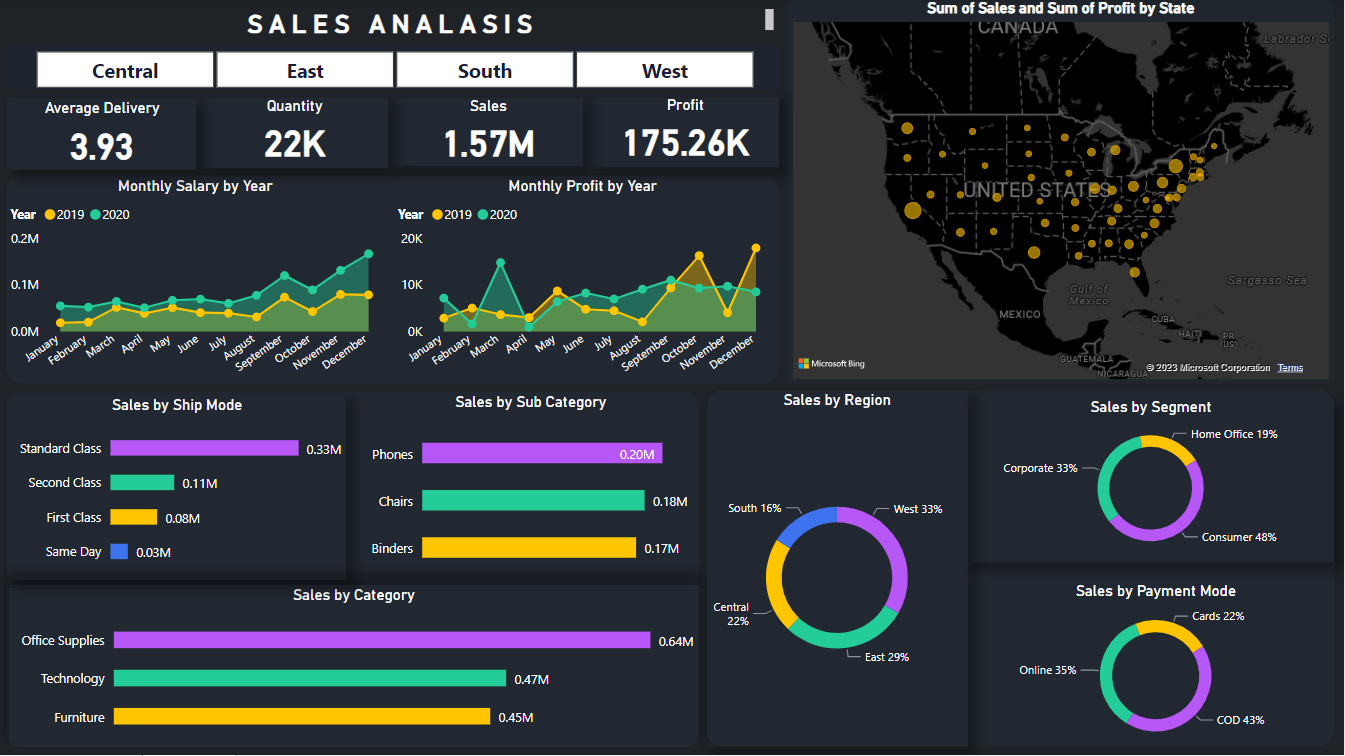

This screenshot's page, from the dashboard's own definition file:
{"tool":"powerbi","page":{"name":"Sales","canvas":[1280,720],"ordinal":0},"visuals":[{"type":"shape","box":[7.1,373.7,659.3,339.2],"z":0},{"type":"shape","box":[673.6,372.5,597.4,339.2],"z":1000},{"type":"shape","box":[7.1,167.8,735.5,198.7],"z":2000},{"type":"shape","box":[7.1,94,735.5,67.8],"z":3000},{"type":"clusteredBarChart","title":" Sales by Category","fields":{"Category":["SuperStore_Sales_Dataset.Category"],"Y":["Sum(SuperStore_Sales_Dataset.Sales)"]},"box":[9.5,558.1,656.9,154.7],"z":4000},{"type":"clusteredBarChart","title":" Sales by Sub Category","fields":{"Category":["SuperStore_Sales_Dataset.Sub-Category"],"Y":["Sum(SuperStore_Sales_Dataset.Sales)"]},"box":[345.1,374.9,322.5,183.3],"z":5000},{"type":"clusteredBarChart","title":" Sales by Ship Mode","fields":{"Category":["SuperStore_Sales_Dataset.Ship Mode"],"Y":["Sum(SuperStore_Sales_Dataset.Sales)"]},"box":[8.3,377.3,322.5,176.1],"z":6000},{"type":"areaChart","title":"Monthly Salary by Year","fields":{"Category":["SuperStore_Sales_Dataset.Order Date.Variation.Date Hierarchy.Month","SuperStore_Sales_Dataset.Order Date.Variation.Date Hierarchy.Day"],"Y":["Sum(SuperStore_Sales_Dataset.Sales)"],"Series":["SuperStore_Sales_Dataset.Order Date.Variation.Date Hierarchy.Year"]},"box":[6,169,361.8,198.7],"z":7000},{"type":"areaChart","title":"Monthly Profit by Year","fields":{"Category":["SuperStore_Sales_Dataset.Order Date.Variation.Date Hierarchy.Month","SuperStore_Sales_Dataset.Order Date.Variation.Date Hierarchy.Day"],"Series":["SuperStore_Sales_Dataset.Order Date.Variation.Date Hierarchy.Year"],"Y":["Sum(SuperStore_Sales_Dataset.Profit)"]},"box":[374.9,169,361.8,198.7],"z":8000},{"type":"donutChart","title":"Sales by Segment","fields":{"Category":["SuperStore_Sales_Dataset.Segment"],"Y":["Sum(SuperStore_Sales_Dataset.Sales)"]},"box":[922.3,379.6,348.7,155.9],"z":9000},{"type":"donutChart","title":"Sales by Region","fields":{"Category":["SuperStore_Sales_Dataset.Region"],"Y":["Sum(SuperStore_Sales_Dataset.Sales)"]},"box":[673.6,372.5,248.7,340.4],"z":10000},{"type":"donutChart","title":"Sales by Payment Mode","fields":{"Category":["SuperStore_Sales_Dataset.Payment Mode"],"Y":["Sum(SuperStore_Sales_Dataset.Sales)"]},"box":[931.8,554.6,339.2,163],"z":11000},{"type":"slicer","fields":{"Values":["SuperStore_Sales_Dataset.Region"]},"box":[9.5,42.8,733.1,44],"z":12000},{"type":"card","title":"Sales","fields":{"Values":["Sum(SuperStore_Sales_Dataset.Sales)"]},"box":[376.1,92.8,179.7,66.6],"z":13000},{"type":"card","title":"Quantity","fields":{"Values":["Sum(SuperStore_Sales_Dataset.Quantity)"]},"box":[192.8,92.8,177.3,67.8],"z":14000},{"type":"card","title":"Profit","fields":{"Values":["Sum(SuperStore_Sales_Dataset.Profit)"]},"box":[564.1,91.6,178.5,67.8],"z":15000},{"type":"card","title":"Average Delivery","fields":{"Values":["Avg(SuperStore_Sales_Dataset.Average Delivery)"]},"box":[9.5,95.2,177.3,67.8],"z":16000},{"type":"map","fields":{"Category":["SuperStore_Sales_Dataset.State"],"Size":["Sum(SuperStore_Sales_Dataset.Sales)"]},"box":[750.9,0,520.1,366.5],"z":17000},{"type":"textbox","box":[9.5,4.8,733.1,33.3],"z":18000}]}

Visuals, with their boxes in screenshot pixels (x1, y1, x2, y2), scaled from the page's 1280x720 canvas onto the 1345x756 screenshot:
shape: box(7, 392, 700, 749)
shape: box(708, 391, 1336, 747)
shape: box(7, 176, 780, 385)
shape: box(7, 99, 780, 170)
" Sales by Category" clusteredBarChart: box(10, 586, 700, 748)
" Sales by Sub Category" clusteredBarChart: box(363, 394, 702, 586)
" Sales by Ship Mode" clusteredBarChart: box(9, 396, 348, 581)
"Monthly Salary by Year" areaChart: box(6, 177, 386, 386)
"Monthly Profit by Year" areaChart: box(394, 177, 774, 386)
"Sales by Segment" donutChart: box(969, 399, 1336, 562)
"Sales by Region" donutChart: box(708, 391, 969, 749)
"Sales by Payment Mode" donutChart: box(979, 582, 1336, 753)
slicer - SuperStore_Sales_Dataset.Region: box(10, 45, 780, 91)
"Sales" card: box(395, 97, 584, 167)
"Quantity" card: box(203, 97, 389, 169)
"Profit" card: box(593, 96, 780, 167)
"Average Delivery" card: box(10, 100, 196, 171)
map - SuperStore_Sales_Dataset.State x Sum(SuperStore_Sales_Dataset.Sales): box(789, 0, 1336, 385)
textbox: box(10, 5, 780, 40)
